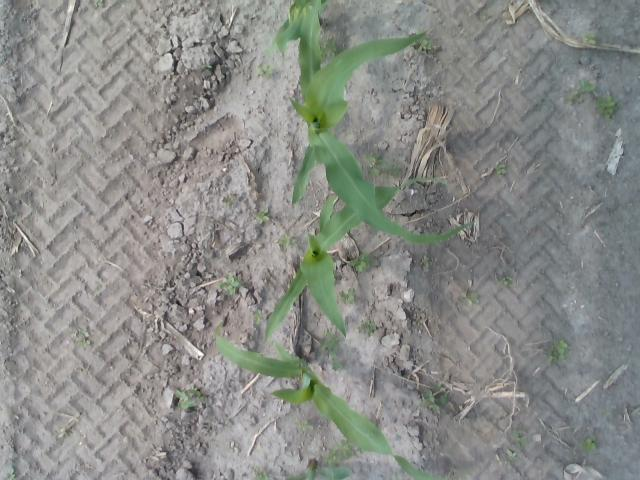Maize: (292, 1, 472, 244), (213, 320, 460, 480), (266, 176, 442, 342), (277, 0, 329, 52), (282, 458, 351, 480)
Weeds: (422, 390, 449, 412), (598, 94, 620, 116), (176, 388, 202, 406), (320, 332, 340, 350), (366, 155, 384, 174), (349, 254, 368, 270), (220, 278, 240, 292), (579, 82, 597, 96), (76, 332, 92, 347), (360, 322, 378, 335), (340, 288, 356, 302), (566, 91, 582, 105), (334, 442, 351, 455), (275, 234, 295, 245), (514, 432, 528, 446), (260, 64, 274, 78), (256, 468, 271, 480), (256, 211, 270, 223), (300, 420, 314, 432), (585, 434, 596, 449), (324, 42, 336, 55), (555, 340, 568, 352), (418, 38, 429, 52), (585, 29, 596, 43), (326, 452, 338, 464), (222, 194, 235, 205), (330, 356, 340, 370), (550, 349, 562, 360), (496, 164, 507, 175), (468, 292, 478, 304), (421, 258, 432, 267), (508, 450, 518, 458), (94, 0, 103, 7), (606, 412, 613, 420), (504, 276, 510, 285)
